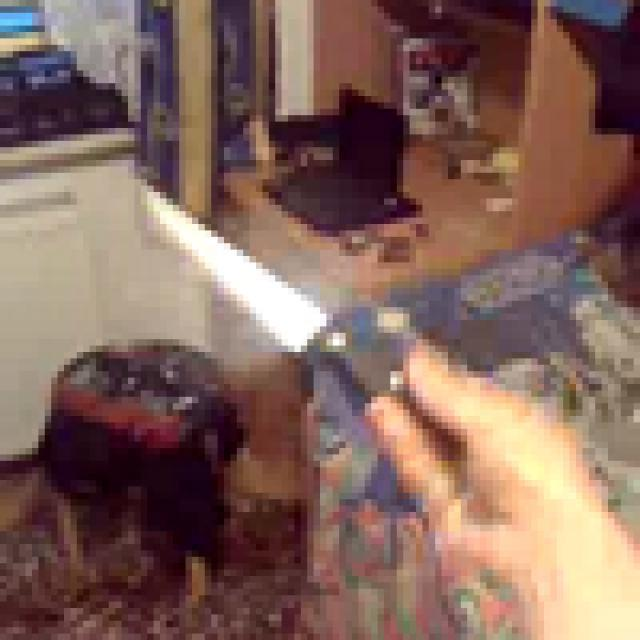knife: (122, 160, 460, 499)
